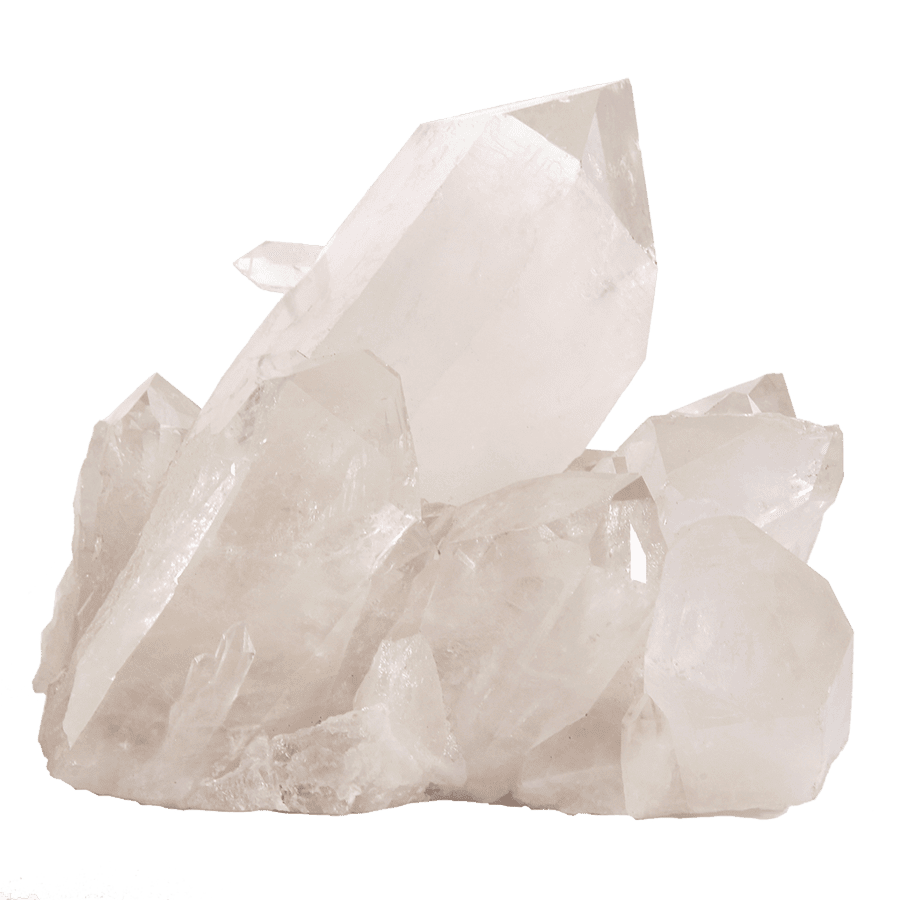Clear_Quartz: (29, 68, 862, 821)
